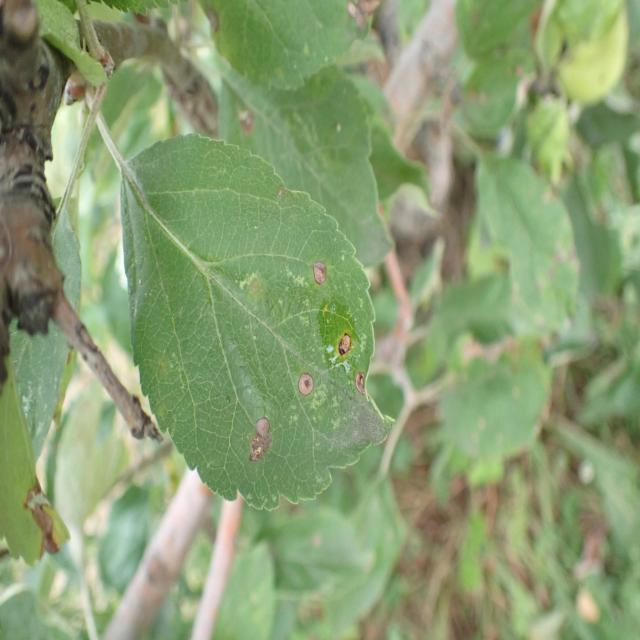frog-eye-leaf-spot: (119, 131, 395, 512)
